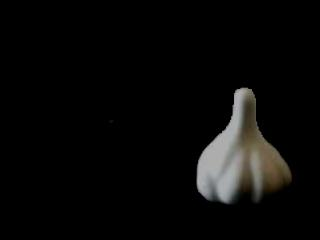Garlic: (196, 90, 295, 208)
